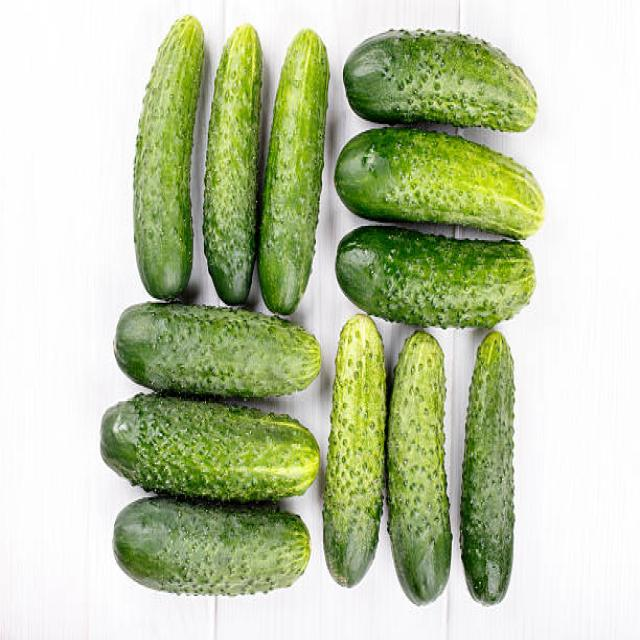cucumber: (98, 389, 320, 504), (333, 126, 544, 240), (131, 10, 205, 297), (335, 225, 535, 331), (113, 298, 324, 398), (342, 28, 538, 134), (258, 26, 330, 313), (111, 496, 312, 595), (321, 314, 388, 590), (388, 328, 452, 603), (203, 23, 263, 305), (459, 328, 515, 610)
